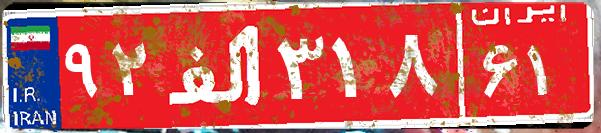1: (330, 28, 385, 110), (525, 38, 570, 115)
2: (110, 28, 158, 105)
3: (273, 28, 330, 110)
6: (475, 38, 525, 113)
8: (385, 28, 445, 110)
9: (57, 26, 110, 107)
الف: (158, 15, 273, 115)
